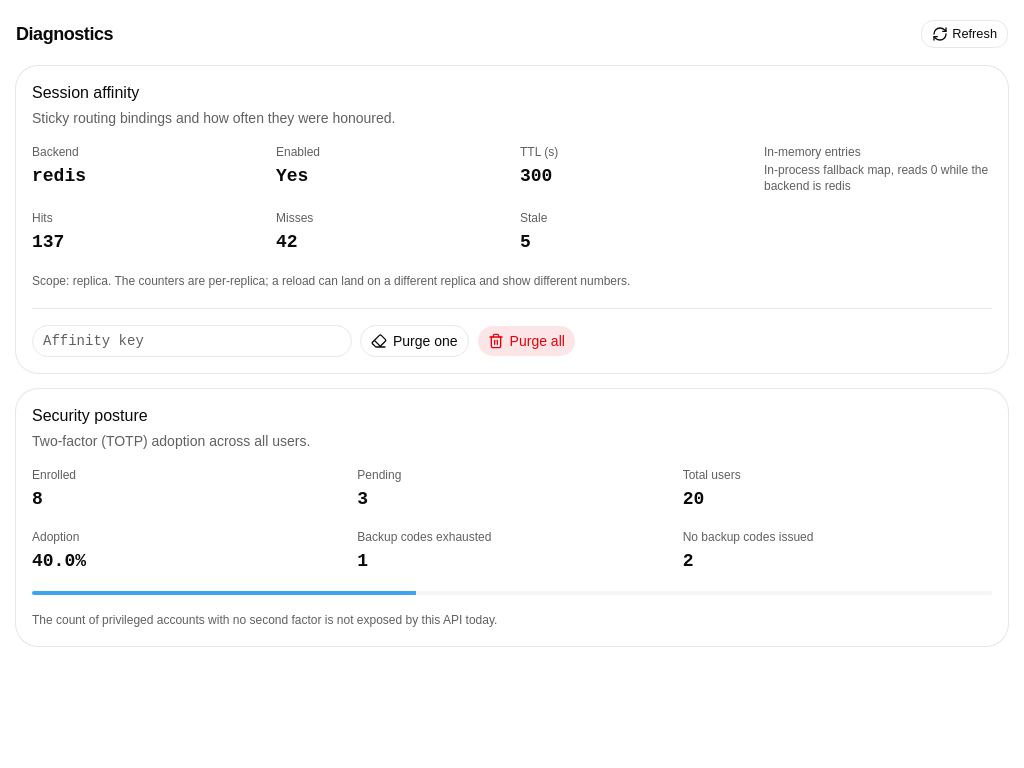
purge one binding › shows the server message on a non-204 answer instead of doing nothing
The width and height of the screenshot is (1024, 768).
Expected: the text "137" is shown, [32, 232, 64, 252]
Type "abc123" into the field with test id "diag-affinity-purge-key-input". click: x=192, y=340
box: [32, 324, 352, 356]
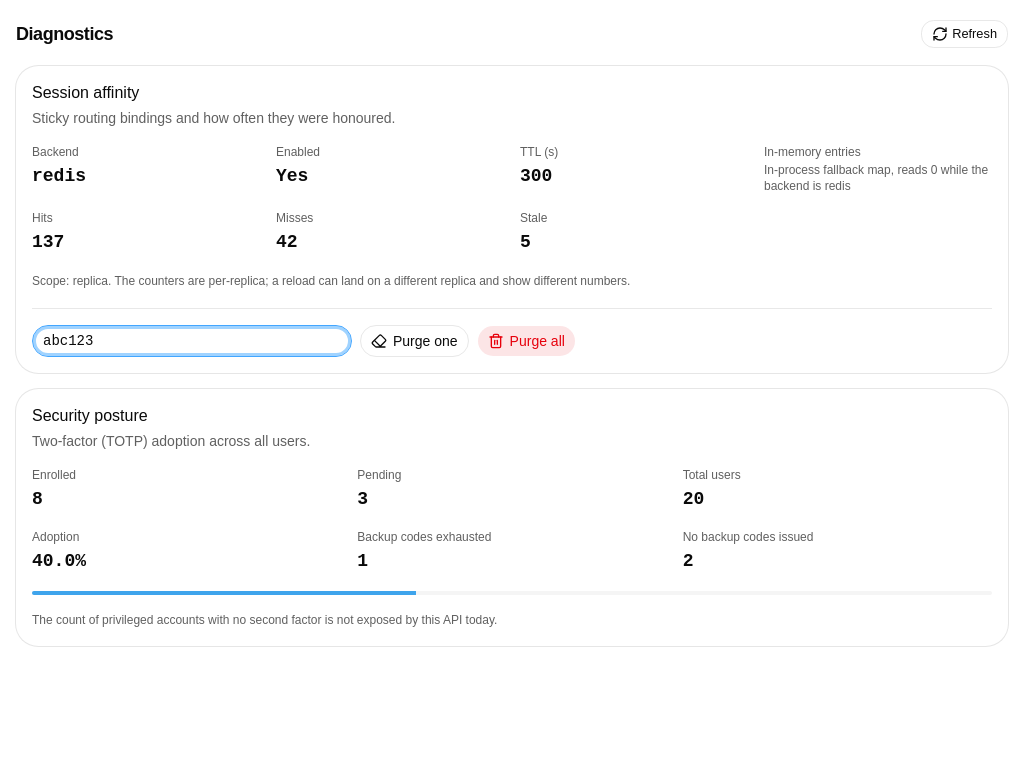
Click the button with test id "diag-affinity-purge-key-btn". click: x=414, y=340
box: [360, 324, 469, 356]
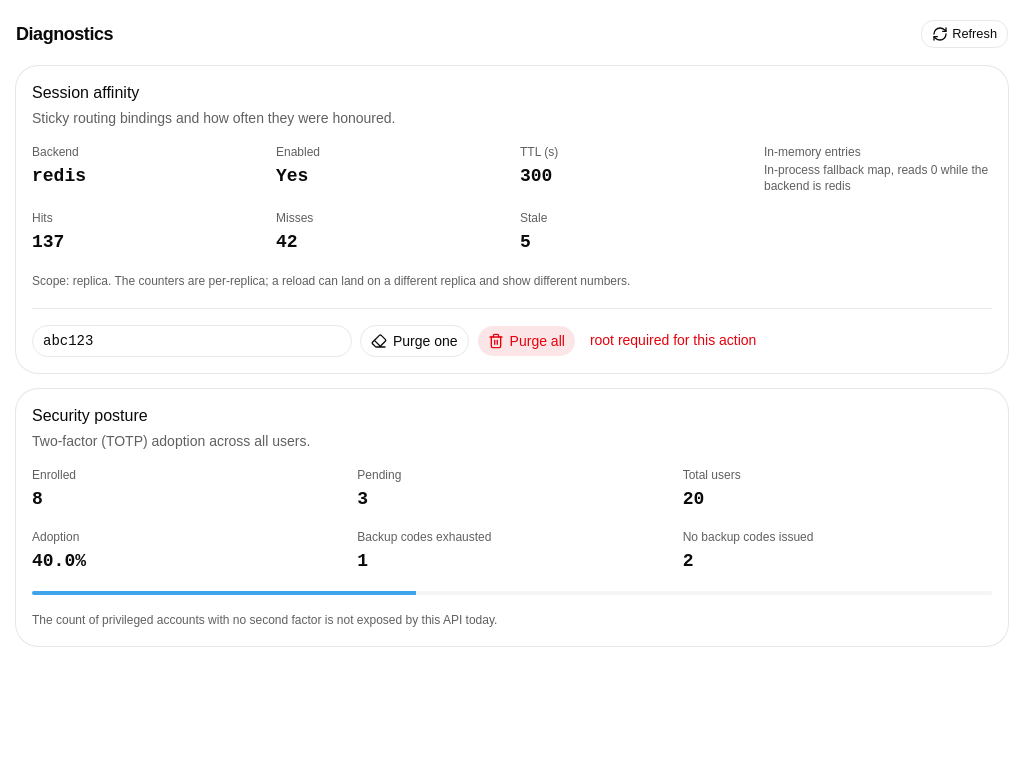
Now the text "root required for this action" is shown, box [590, 330, 756, 351]
